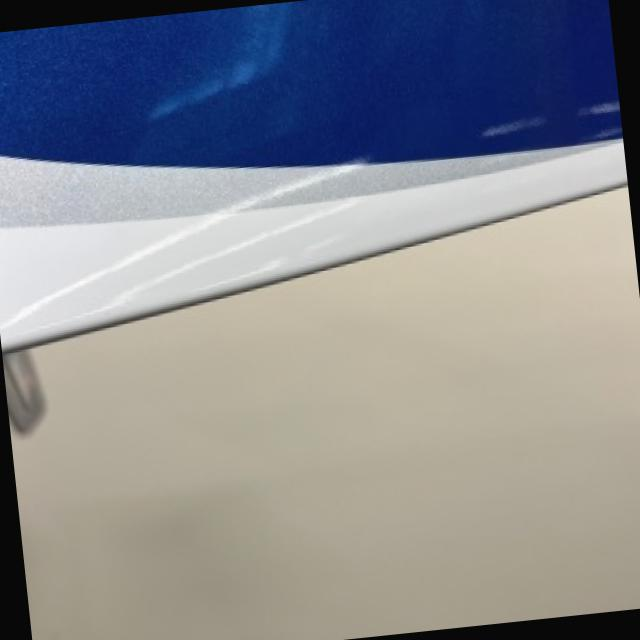healthy: (0, 0, 621, 426)
